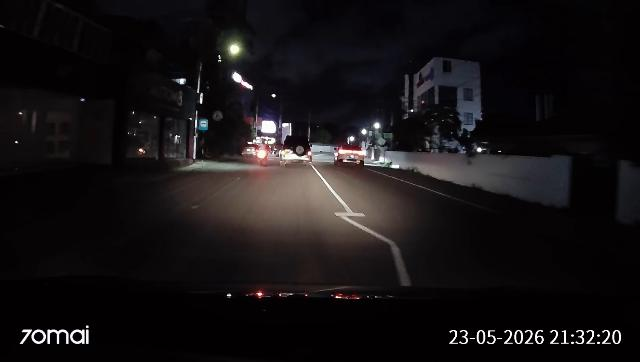illegal overtaking: (325, 140, 367, 172)
